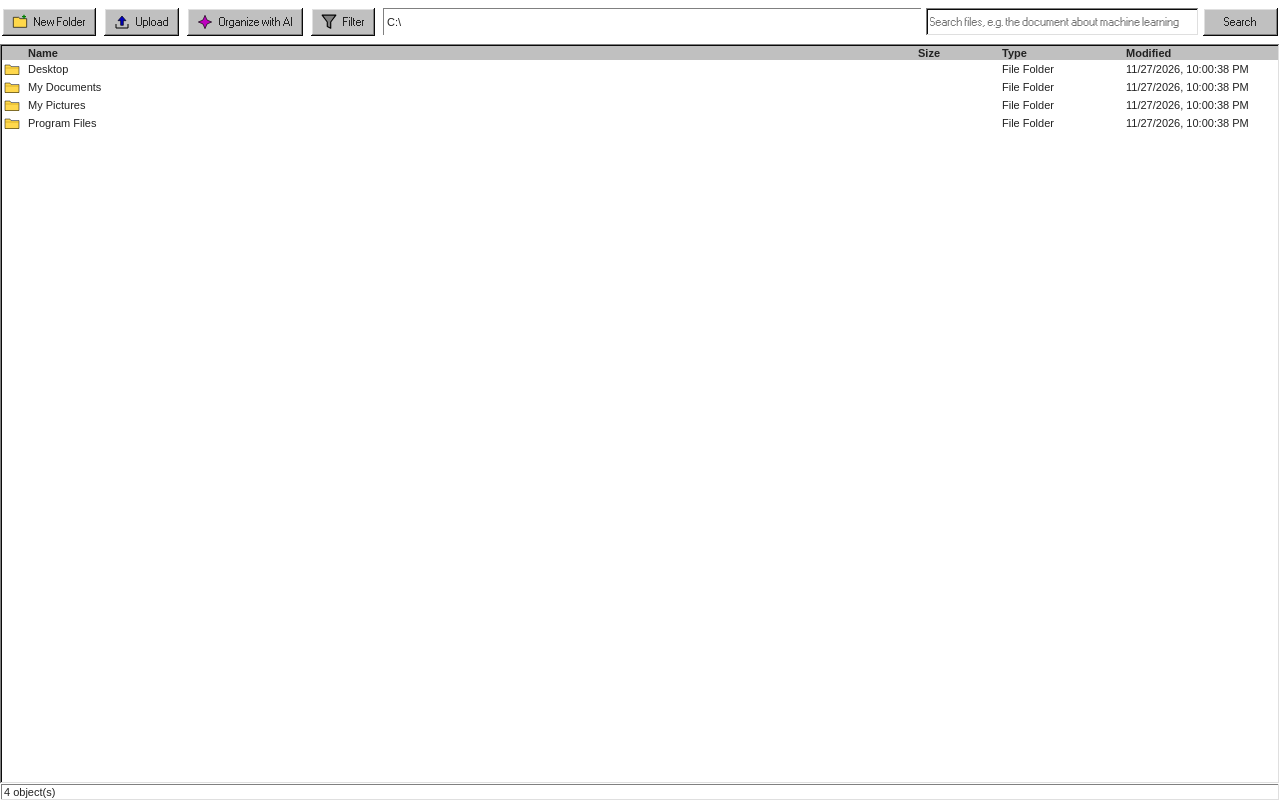
Explorer and application shortcuts › lists Program Files shortcuts, refuses to delete one, and hides the Recycle Bin folder
This screenshot has width=1280, height=800.
Expected: the text "Recycle Bin" is not shown
Double-click the text "Program Files" at (62, 123), box [28,117,96,129]
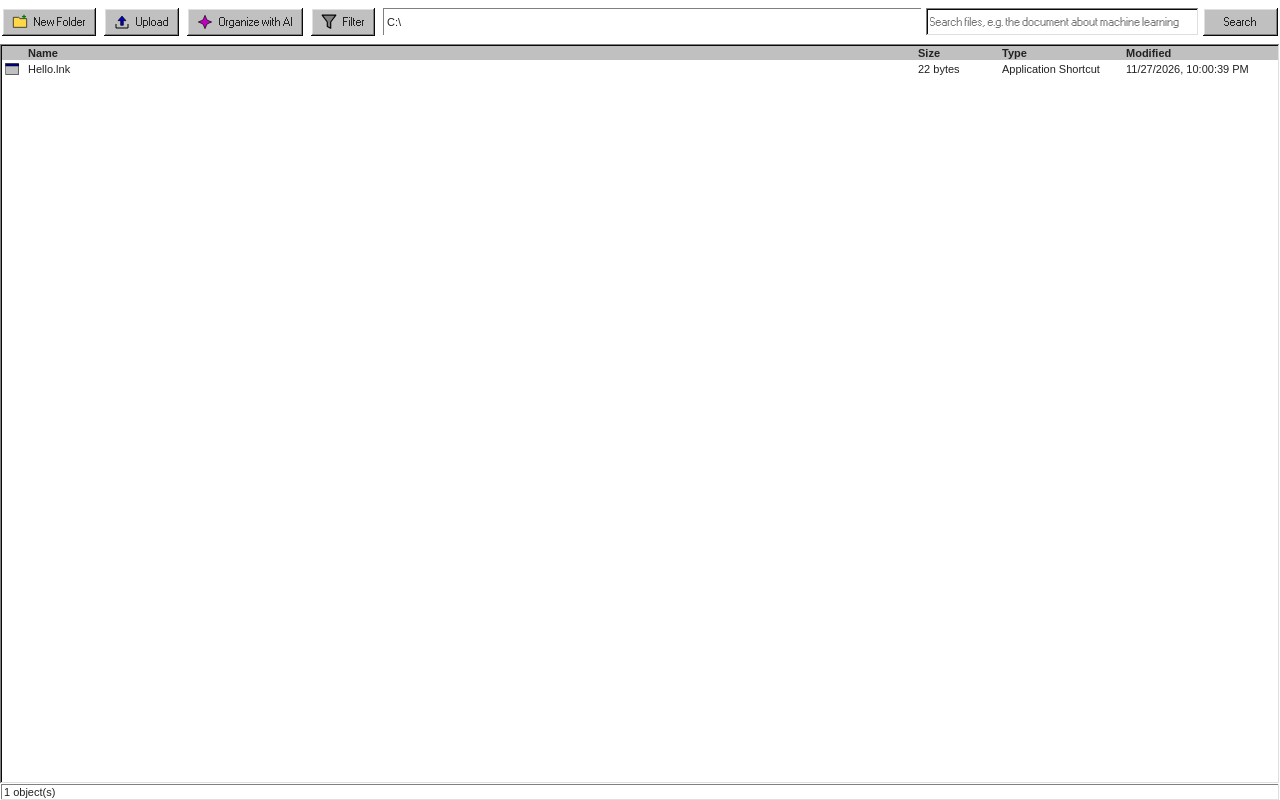
Press the mouse on the text "Hello.lnk" at (49, 69), box [28,63,70,75]
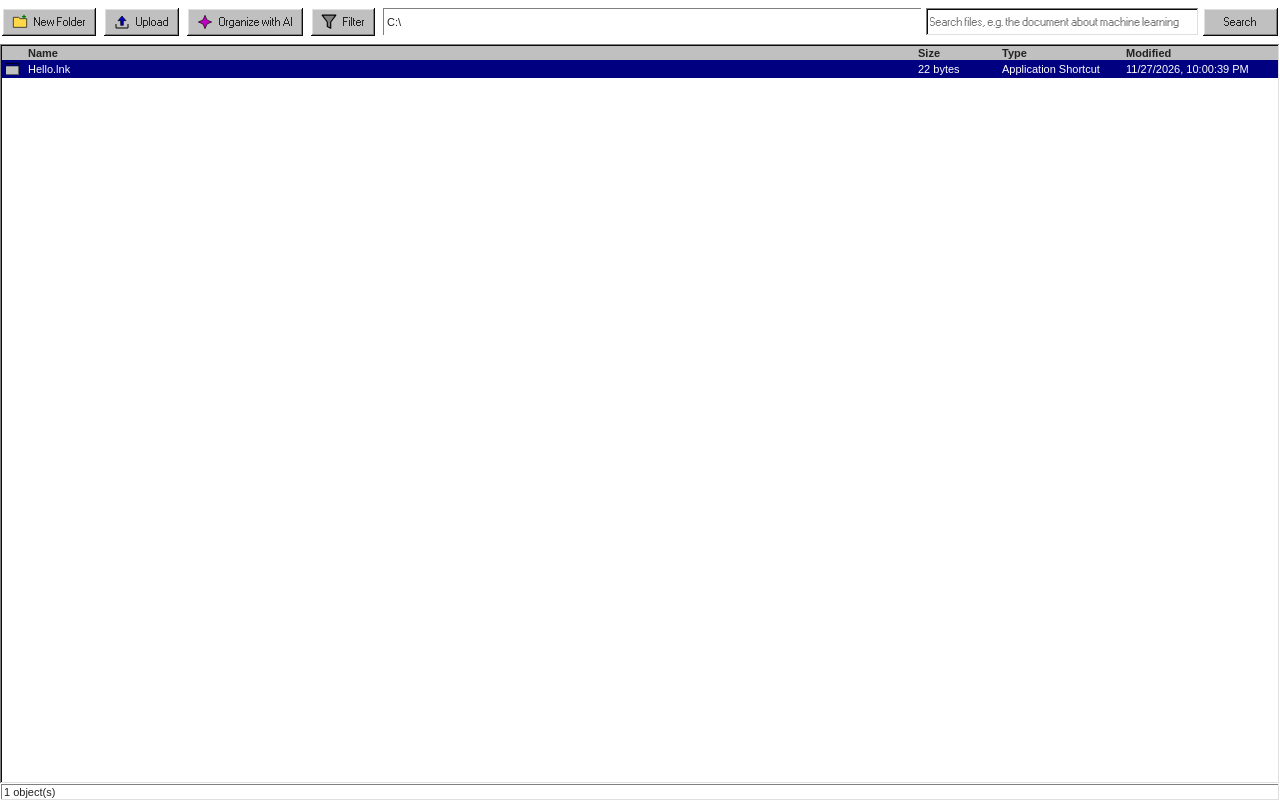
Press Delete in the list named "Files"
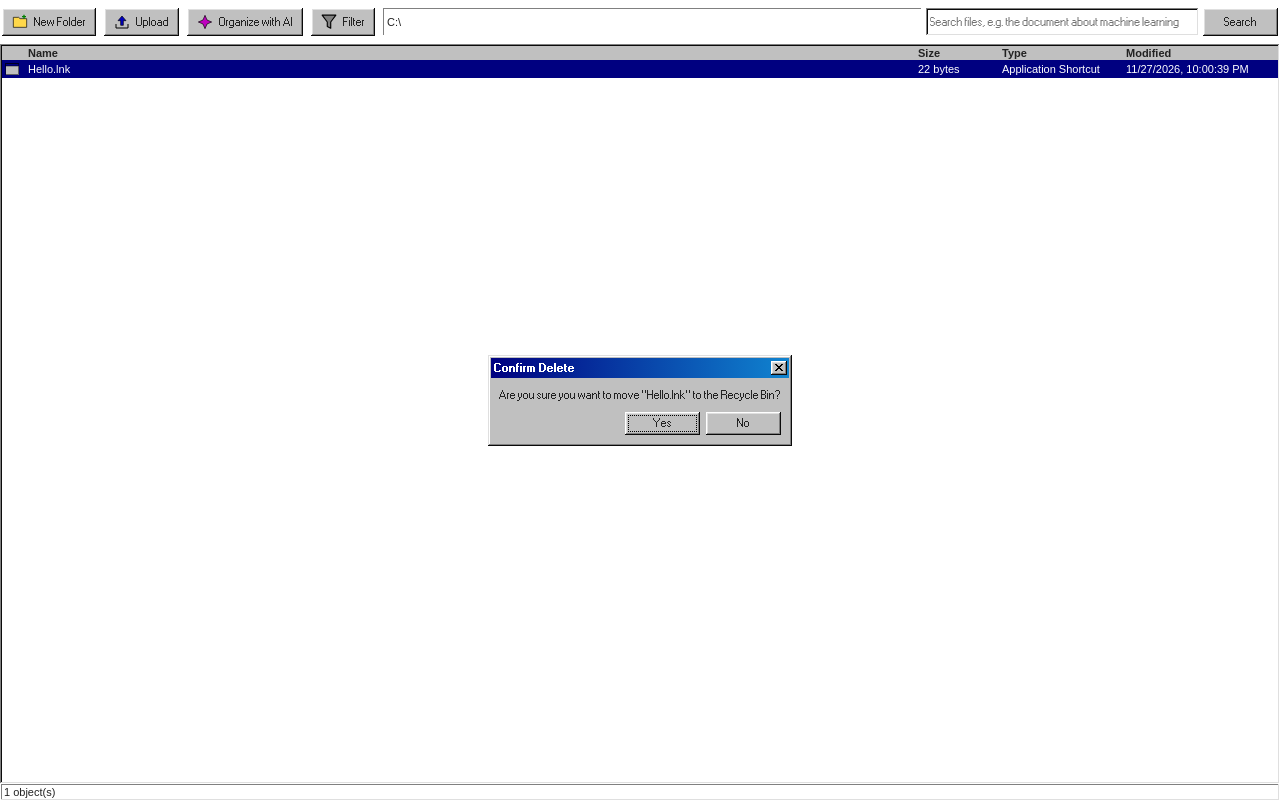
Click the button "Yes". click: (662, 423)
box: [625,412,700,434]
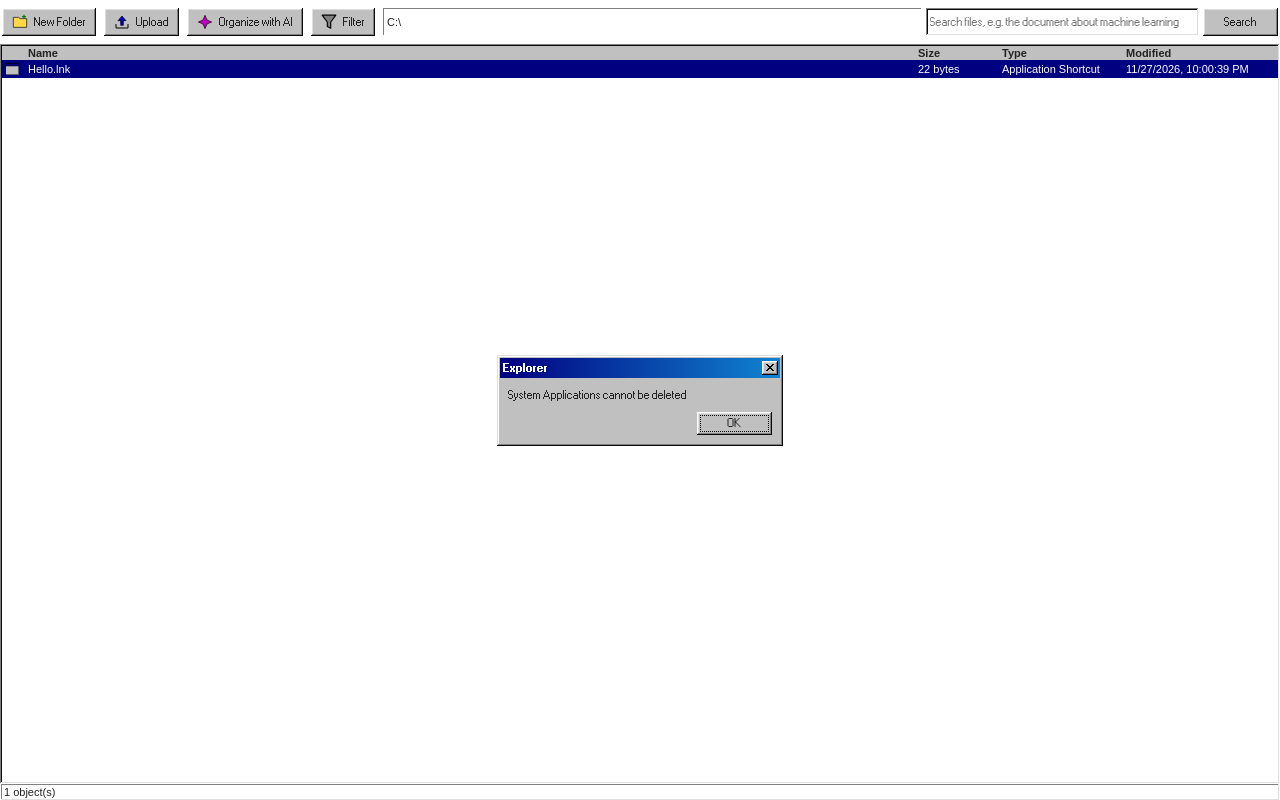
Expected: the dialog "Explorer" shows "System Applications cannot be deleted", [508,388,687,400]
